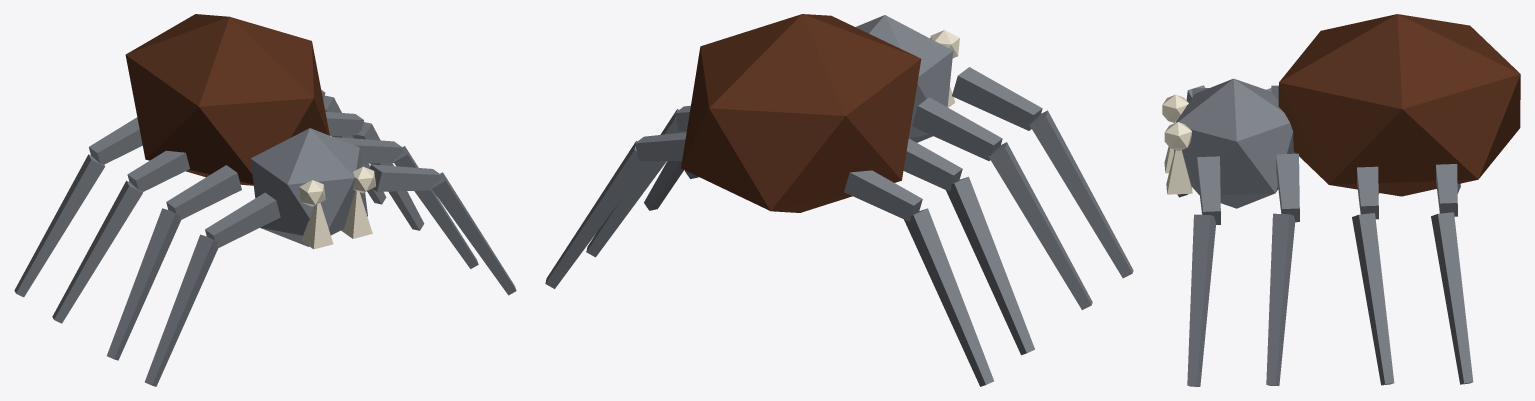
Rendered from npcpose_spider_idle_02.glb.
3 renders of one model, left to right at view 1: azimuth 30°, elevation 25°; view 2: azimuth 150°, elevation 25°; view 3: azimuth 270°, elevation 25°, orthographic. The views are drawn at different scales.
Visible parts, largest first — view 1: npcpose; view 2: npcpose; view 3: npcpose.
Boxes of the visible parts, x1,y1,x2,y2 form: npcpose: (14, 14, 516, 386); npcpose: (545, 14, 1133, 386); npcpose: (1162, 14, 1520, 386).
Bounding box in the file's own units: 1.33 × 0.8465 × 0.9976.
